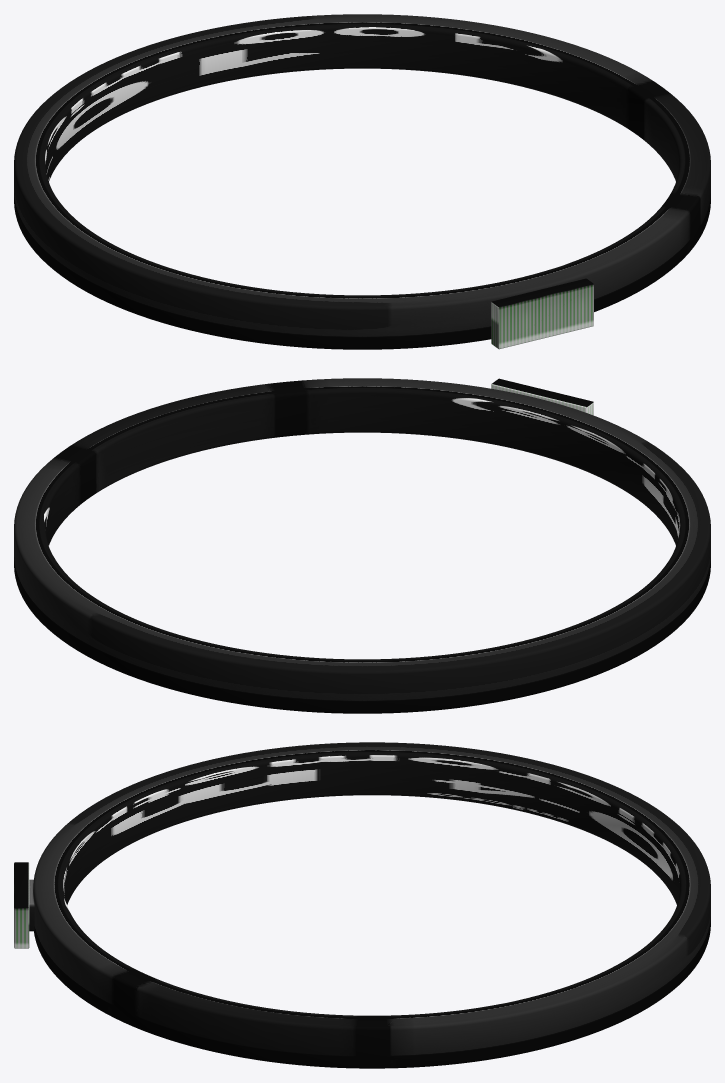
The model's file is 08-scalering-100um.dae.
The picture shows the model from 3 angles, top to bottom: view 1: azimuth 30°, elevation 25°; view 2: azimuth 150°, elevation 25°; view 3: azimuth 270°, elevation 25°; orthographic projection. The views are drawn at different scales.
Visible parts, largest first — view 1: scalering.1, screen.1; view 2: scalering.1, screen.1; view 3: scalering.1, screen.1.
Boxes of the visible parts, left/top/right/bottom form: scalering.1: left=14, top=14, right=710, bottom=349; screen.1: left=491, top=278, right=593, bottom=349; scalering.1: left=14, top=378, right=710, bottom=713; screen.1: left=491, top=378, right=593, bottom=415; scalering.1: left=33, top=742, right=710, bottom=1068; screen.1: left=14, top=862, right=29, bottom=948.
Size of the model in its own units: 11 by 0.75 by 11.31.
Materials: 3 (3 with a texture image).
